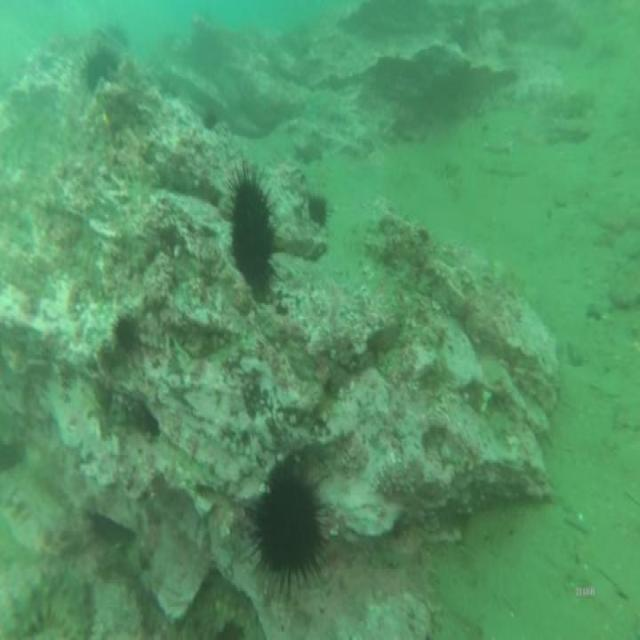echinus: (236, 454, 335, 604), (224, 161, 281, 300), (76, 41, 118, 95), (108, 310, 140, 356), (307, 188, 329, 236)
